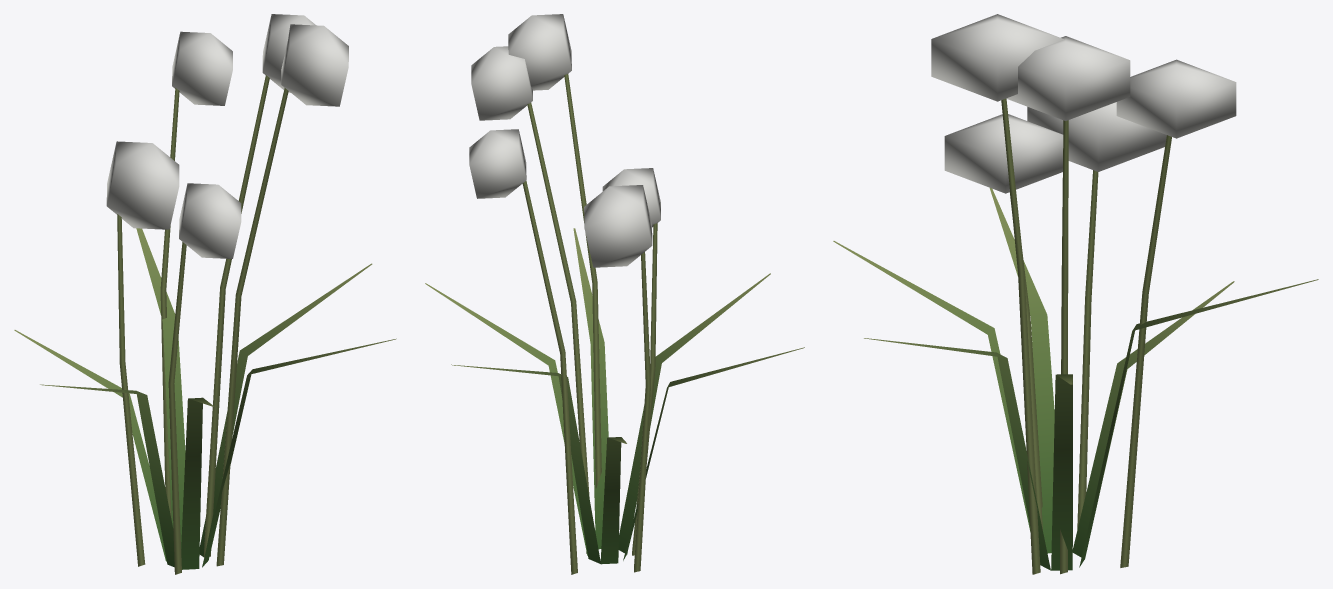
Rendered from cottongrass.glb.
3 renders of one model, left to right at view 1: azimuth 30°, elevation 25°; view 2: azimuth 150°, elevation 25°; view 3: azimuth 270°, elevation 25°, orthographic. The views are drawn at different scales.
Visible parts, largest first — view 1: cottongrass; view 2: cottongrass; view 3: cottongrass.
Part boxes in pixels (box(x1,y1,x2,y2)): cottongrass: box(14, 14, 396, 574); cottongrass: box(425, 14, 804, 574); cottongrass: box(833, 14, 1318, 574).
Bounding box in the file's own units: 0.4457 × 0.6121 × 0.4477.
